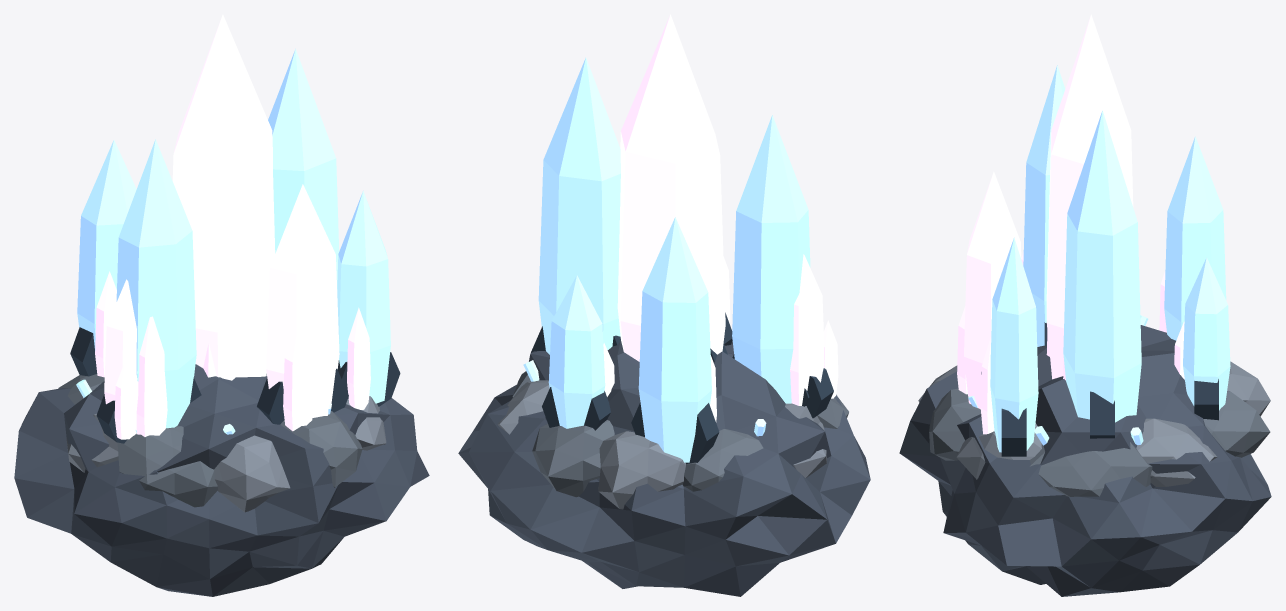
The model's file is ore_Xenomit_detail.glb.
3 renders of one model, left to right at view 1: azimuth 30°, elevation 25°; view 2: azimuth 150°, elevation 25°; view 3: azimuth 270°, elevation 25°, orthographic.
Visible parts, largest first — view 1: root_fractured_asteroid, crystal_main_0, crystal_main_1, crystal_main_3, crystal_main_2, crystal_main_5, crystal_main_4, rock_armor_4, rock_armor_3, facet_spark_1, crystal_main_6, rock_armor_2 (+12 smaller); view 2: root_fractured_asteroid, crystal_main_0, crystal_main_2, crystal_main_1, crystal_main_4, crystal_main_7, rock_armor_7, rock_armor_8, crystal_main_6, rock_armor_6, rock_armor_9, crystal_socket_4 (+5 smaller); view 3: root_fractured_asteroid, crystal_main_2, crystal_main_0, crystal_main_4, crystal_main_5, crystal_main_3, crystal_main_1, crystal_main_7, rock_armor_0, rock_armor_9, rock_armor_8, rock_armor_2 (+7 smaller).
Boxes of the visible parts, bbox=[...] form: root_fractured_asteroid: bbox=[14, 364, 429, 596]; crystal_main_0: bbox=[172, 14, 275, 377]; crystal_main_1: bbox=[116, 139, 196, 428]; crystal_main_3: bbox=[266, 184, 339, 417]; crystal_main_2: bbox=[268, 49, 339, 288]; crystal_main_5: bbox=[337, 191, 390, 403]; crystal_main_4: bbox=[77, 140, 136, 350]; rock_armor_4: bbox=[117, 425, 217, 507]; rock_armor_3: bbox=[214, 435, 290, 512]; facet_spark_1: bbox=[136, 316, 167, 436]; crystal_main_6: bbox=[104, 279, 138, 435]; rock_armor_2: bbox=[280, 411, 362, 487]; root_fractured_asteroid: bbox=[458, 341, 870, 596]; crystal_main_0: bbox=[617, 14, 725, 361]; crystal_main_2: bbox=[538, 57, 620, 354]; crystal_main_1: bbox=[732, 115, 810, 403]; crystal_main_4: bbox=[638, 217, 711, 462]; crystal_main_7: bbox=[548, 275, 605, 428]; rock_armor_7: bbox=[598, 431, 685, 509]; rock_armor_8: bbox=[532, 420, 614, 497]; crystal_main_6: bbox=[790, 254, 824, 405]; rock_armor_6: bbox=[682, 429, 763, 491]; rock_armor_9: bbox=[497, 380, 549, 434]; crystal_socket_4: bbox=[631, 402, 719, 463]; root_fractured_asteroid: bbox=[899, 325, 1271, 596]; crystal_main_2: bbox=[1063, 110, 1141, 422]; crystal_main_0: bbox=[1046, 14, 1133, 379]; crystal_main_4: bbox=[1164, 136, 1226, 340]; crystal_main_5: bbox=[990, 237, 1038, 452]; crystal_main_3: bbox=[964, 171, 1021, 408]; crystal_main_1: bbox=[1023, 65, 1065, 346]; crystal_main_7: bbox=[1183, 257, 1230, 410]; rock_armor_0: bbox=[1029, 442, 1152, 496]; rock_armor_9: bbox=[1136, 418, 1217, 486]; rock_armor_8: bbox=[1203, 390, 1270, 457]; rock_armor_2: bbox=[929, 388, 980, 460].
Size of the model in its own units: 1.83 by 2.71 by 1.64.
